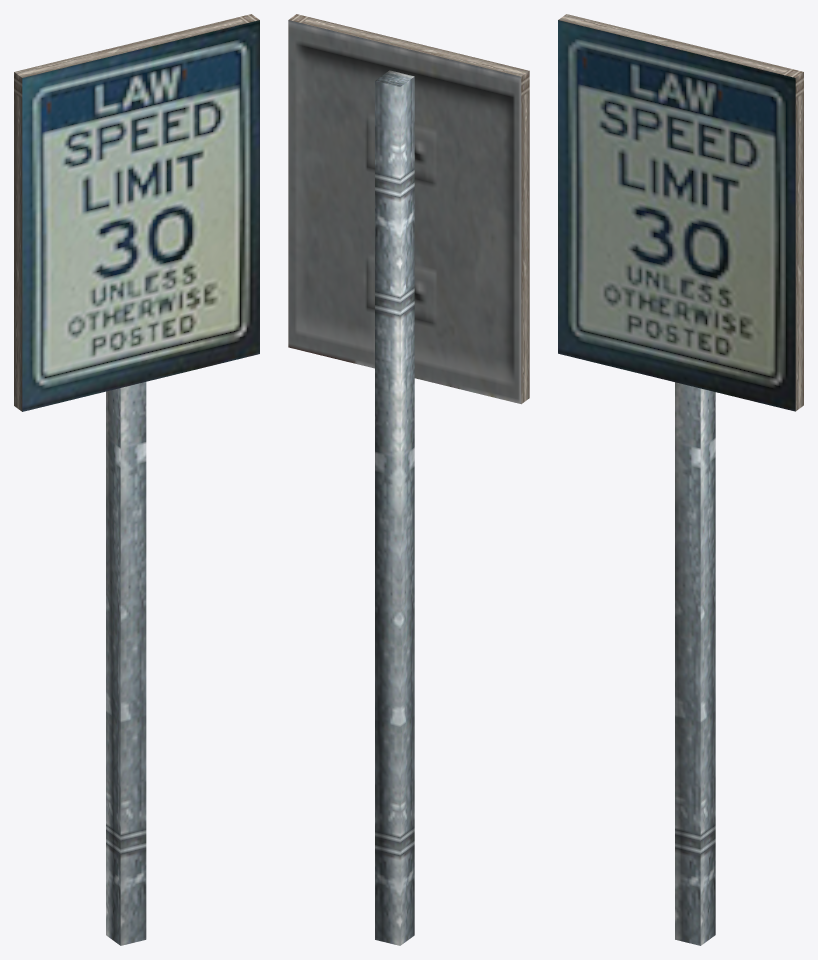
Rendered from Model_StreetSign_04.fbx.
The picture shows the model from 3 angles, left to right: view 1: azimuth 30°, elevation 25°; view 2: azimuth 150°, elevation 25°; view 3: azimuth 330°, elevation 25°; orthographic projection.
Visible parts, largest first — view 1: StreetSign_04; view 2: StreetSign_04; view 3: StreetSign_04.
Part boxes in pixels (box(x1,y1,x2,y2)): StreetSign_04: box(14, 14, 259, 945); StreetSign_04: box(288, 14, 529, 945); StreetSign_04: box(558, 14, 803, 945).
Bounding box in the file's own units: 59.59 × 216 × 10.5.
